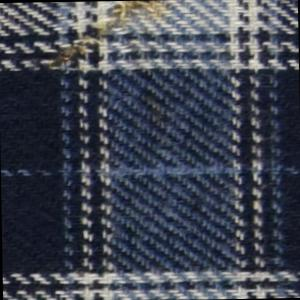Oil Stain: (29, 1, 175, 81)
